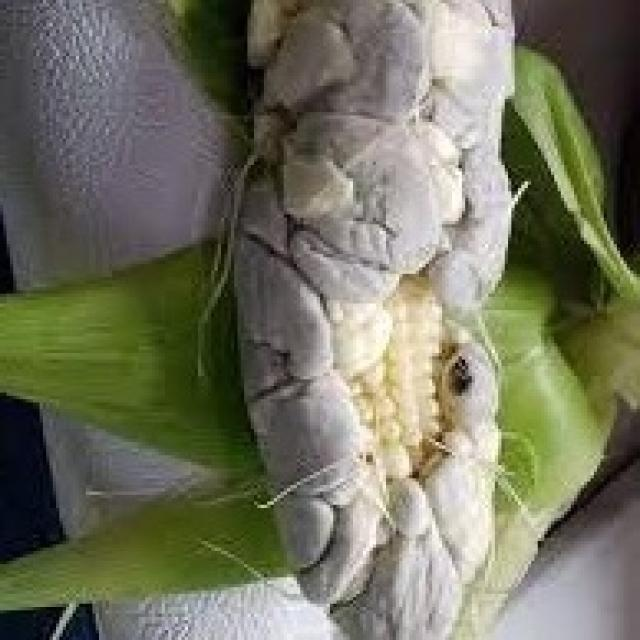Leaf_Scald: (175, 0, 567, 640)
